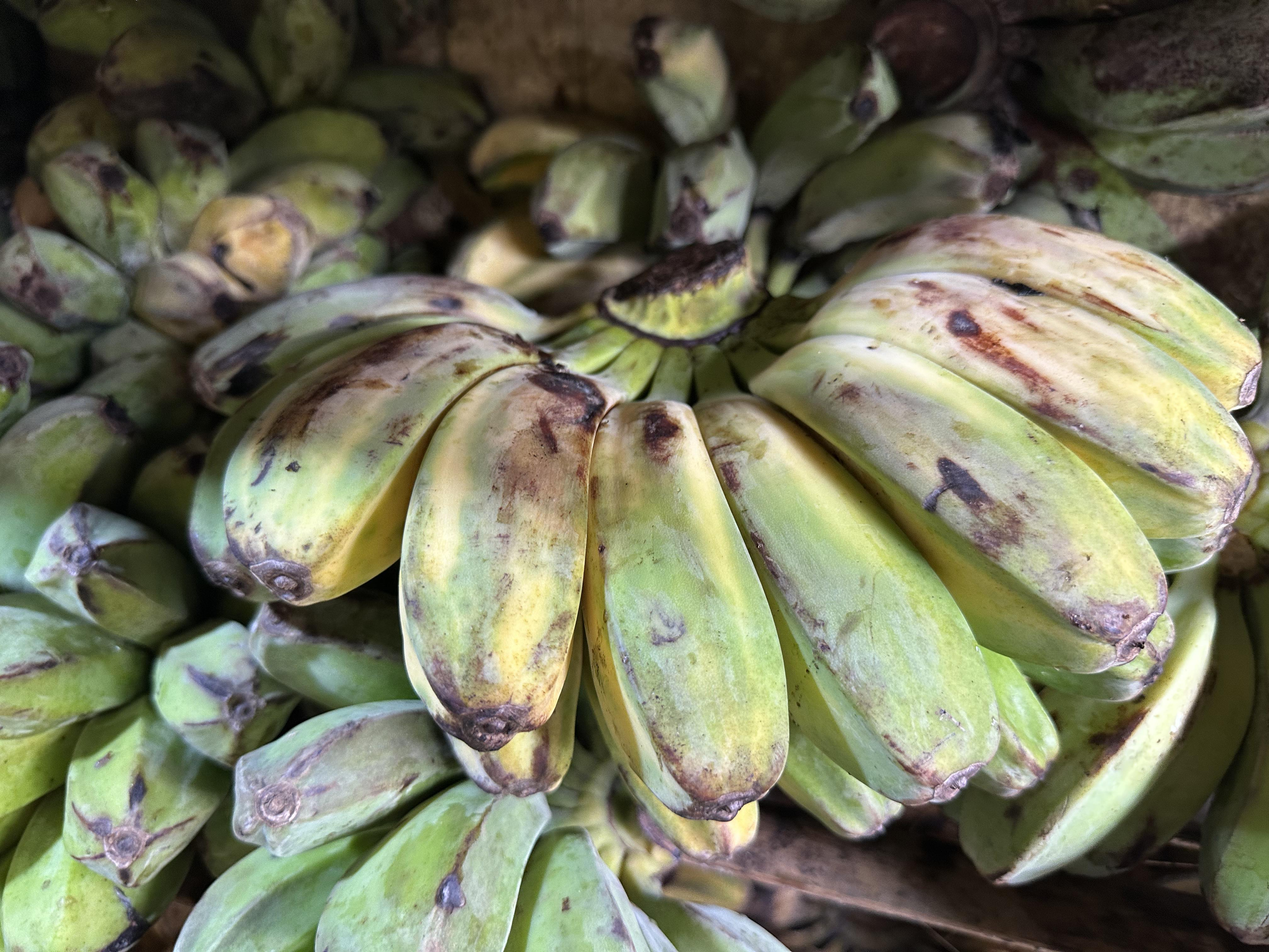underripe: (189, 215, 1260, 857), (174, 591, 787, 952), (0, 503, 296, 952), (953, 564, 1269, 944), (531, 16, 1020, 254), (0, 119, 385, 390), (39, 0, 487, 152), (0, 347, 207, 589)
